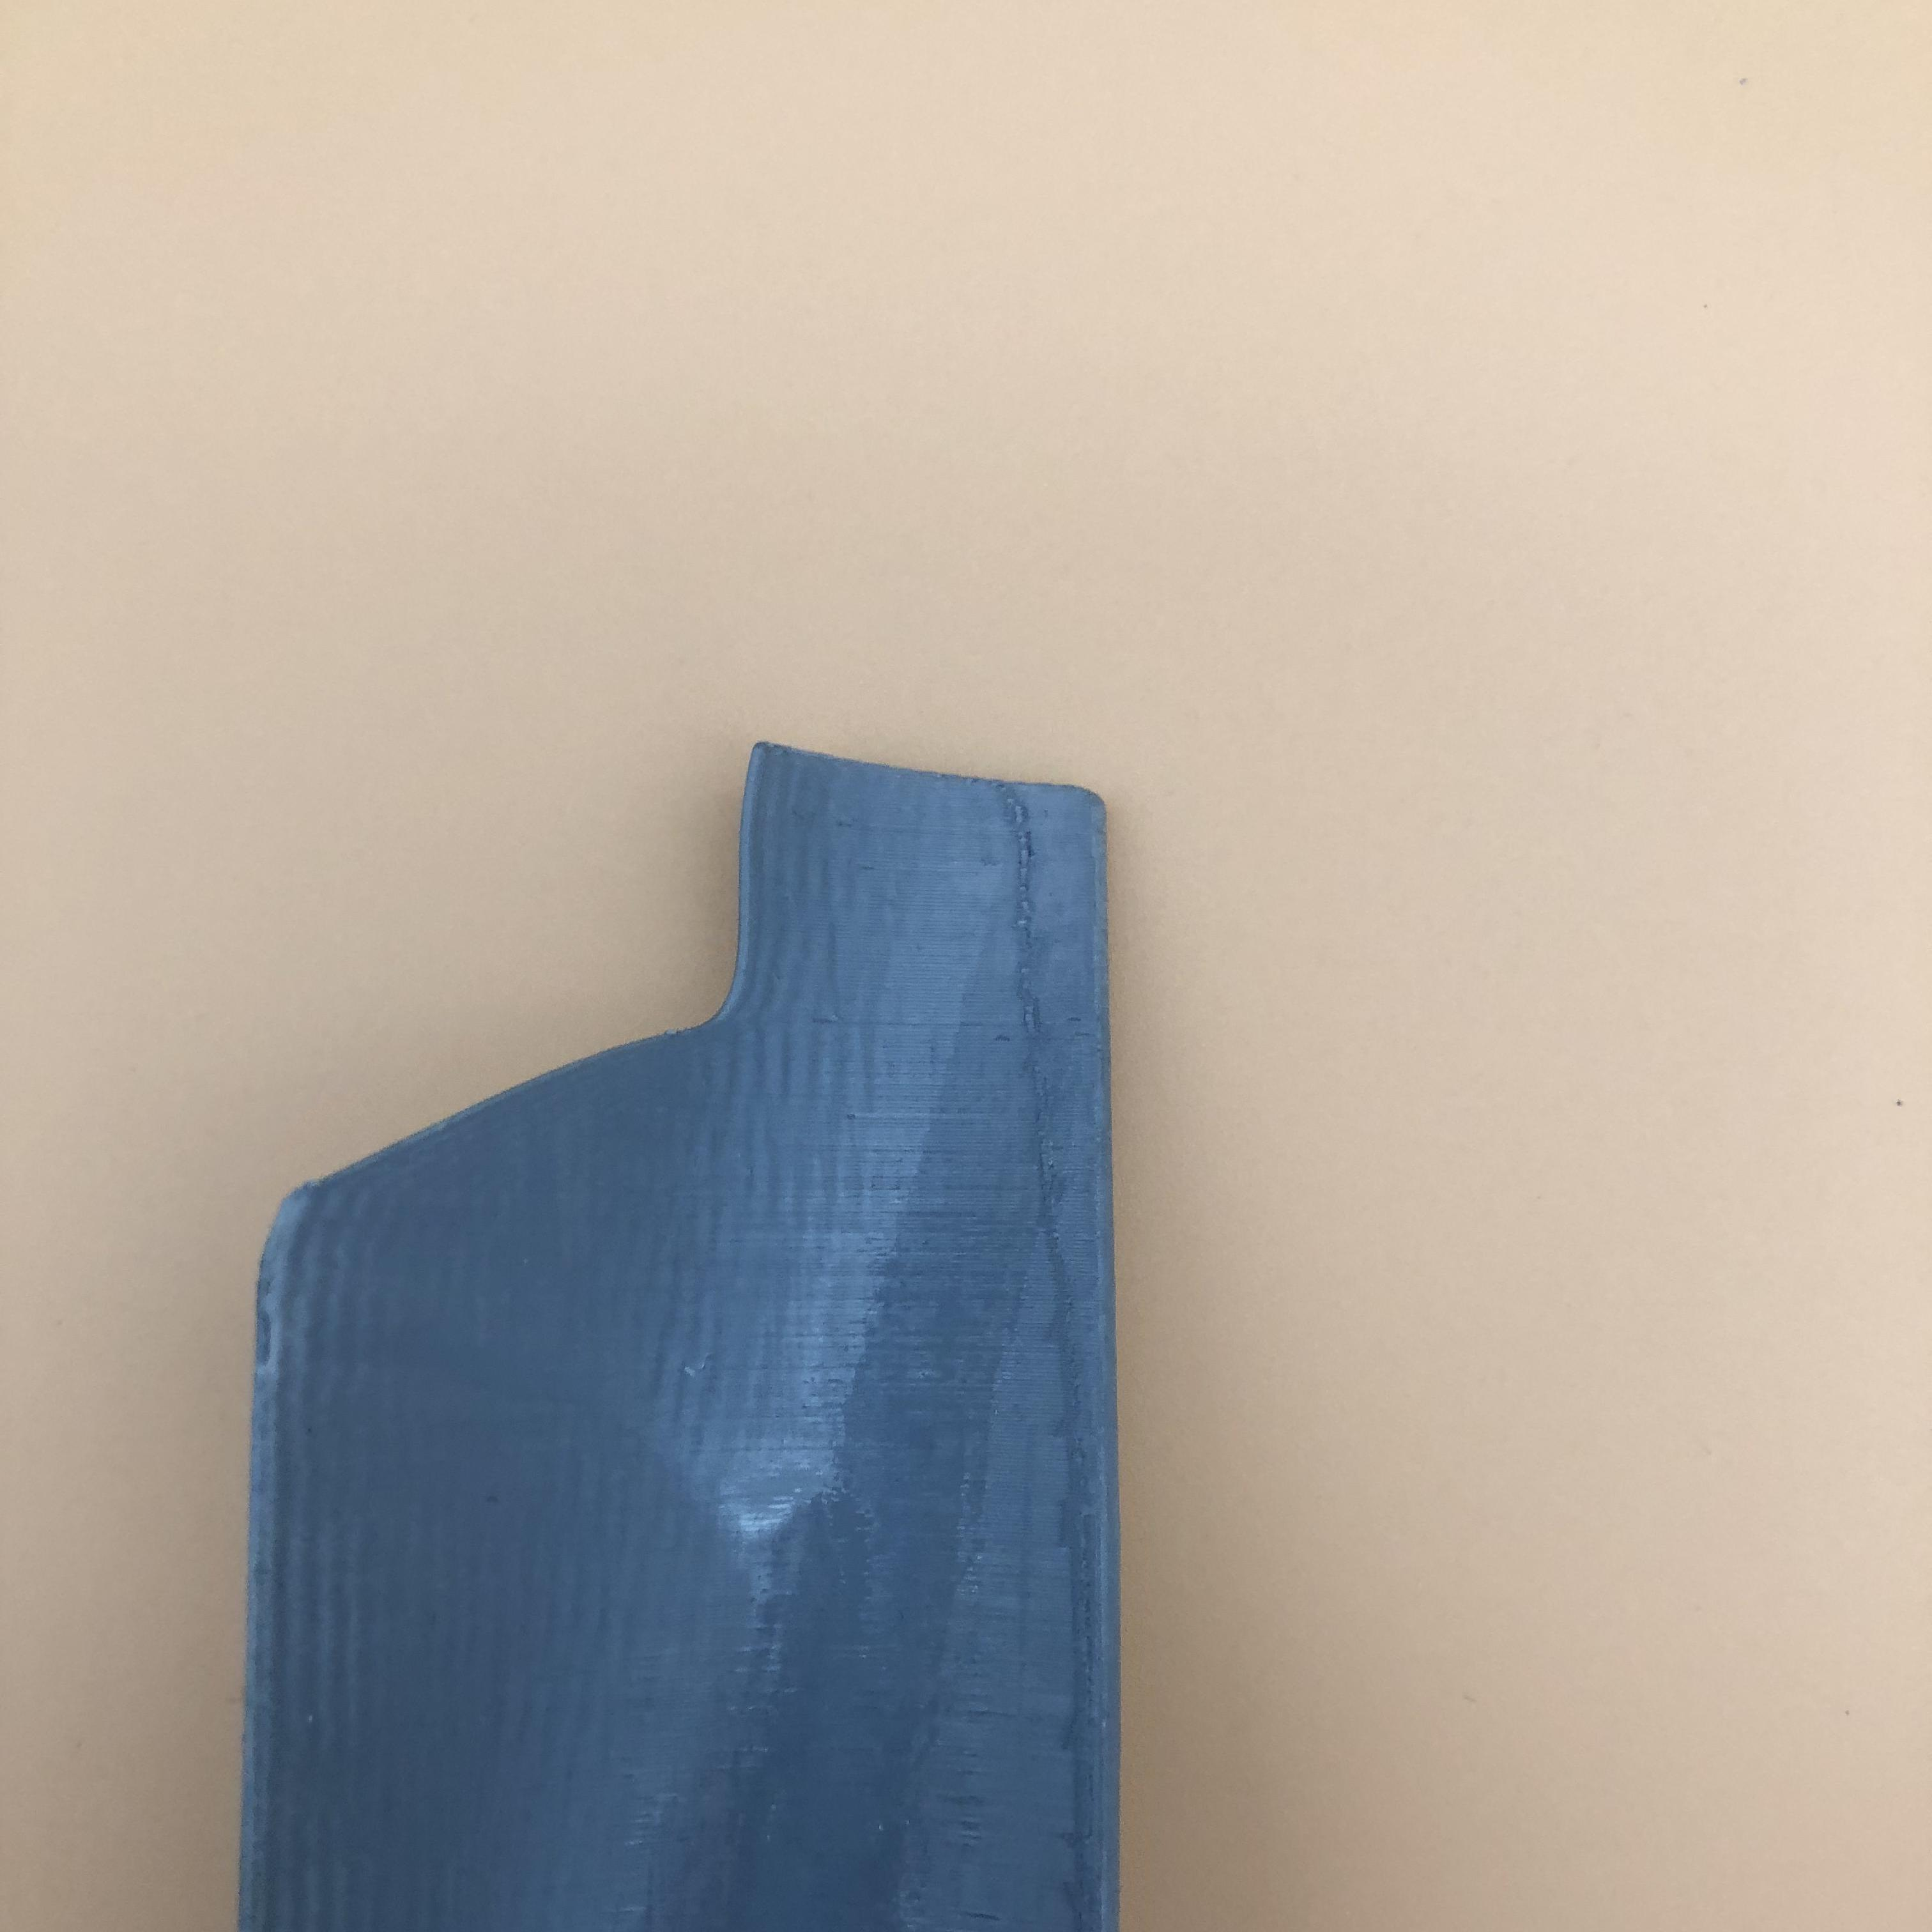fracture: (304, 833, 849, 1215)
